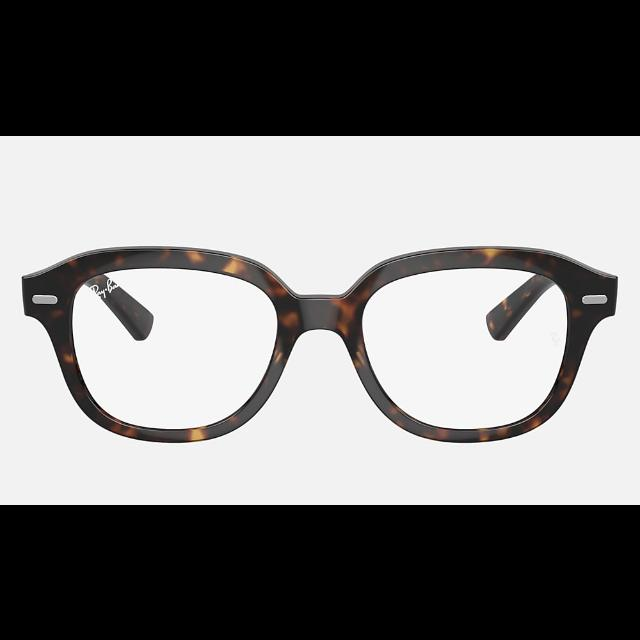glasses: (20, 244, 618, 442)
